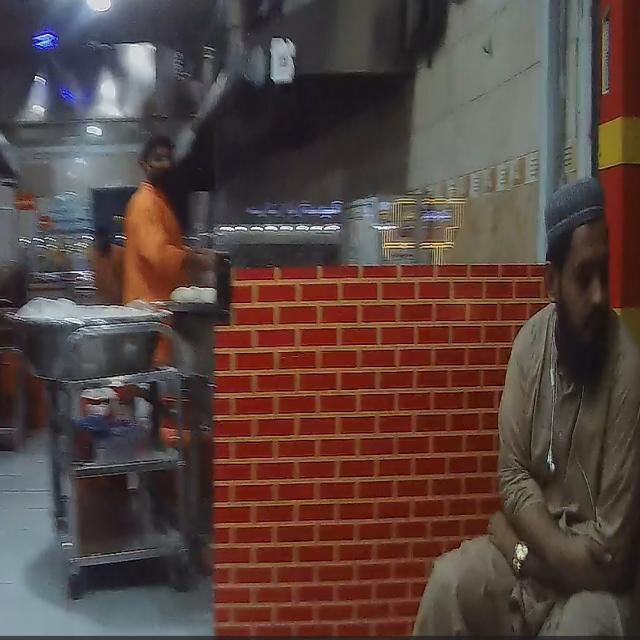face_no_mask: (538, 219, 614, 372)
